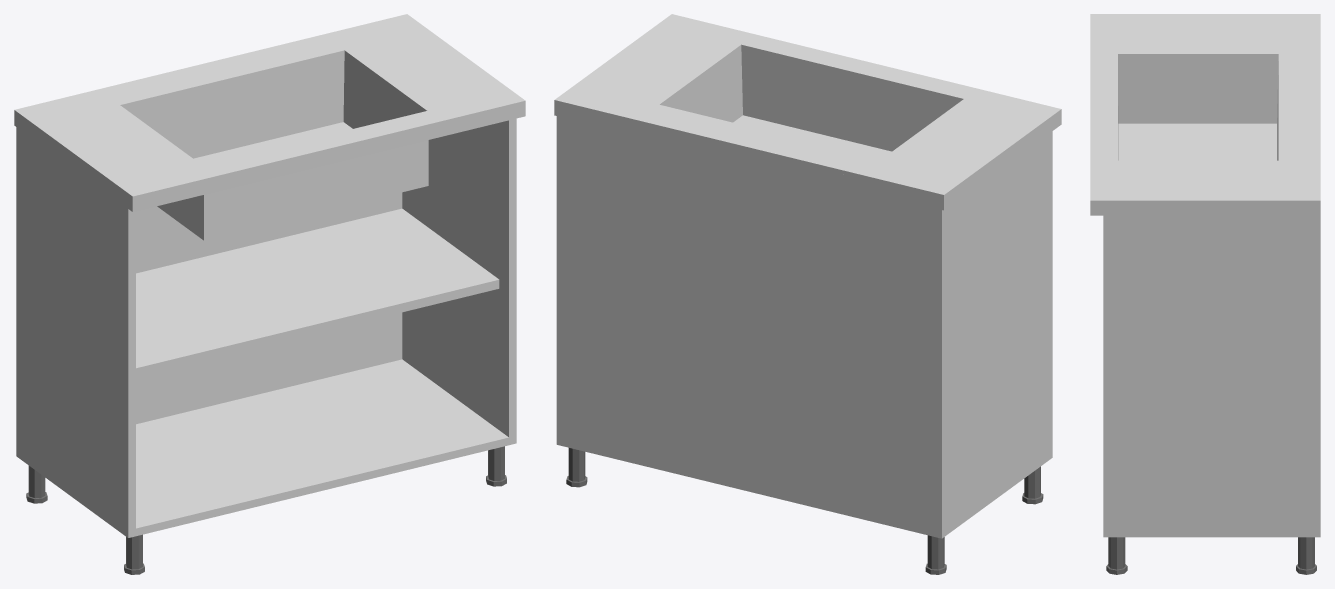
The model's file is Bathroom_C1_06.fbx.
The picture shows the model from 3 angles, left to right: view 1: azimuth 30°, elevation 25°; view 2: azimuth 150°, elevation 25°; view 3: azimuth 270°, elevation 25°; orthographic projection. The views are drawn at different scales.
Visible parts, largest first — view 1: Bathroom_C1_06; view 2: Bathroom_C1_06; view 3: Bathroom_C1_06.
Part boxes in pixels (bbox=[...]): Bathroom_C1_06: bbox=[14, 14, 525, 574]; Bathroom_C1_06: bbox=[554, 14, 1061, 574]; Bathroom_C1_06: bbox=[1090, 14, 1320, 574].
Bounding box in the file's own units: 91 × 85.82 × 47.51.
